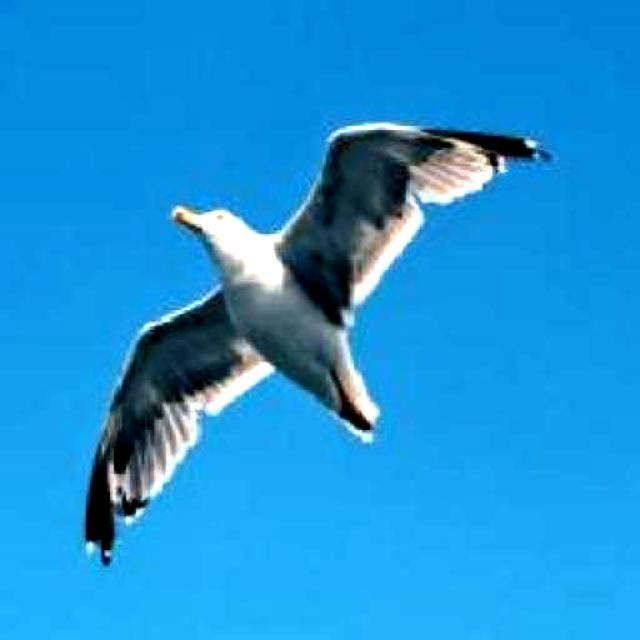airplane: (86, 124, 554, 568)
